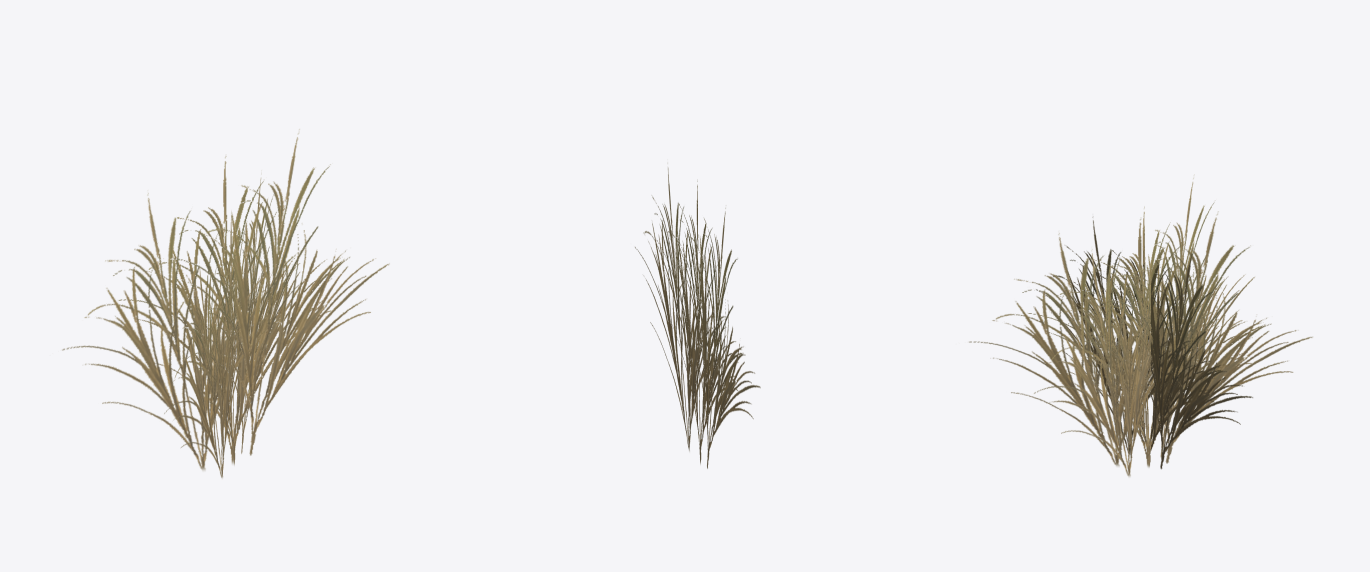
Rendered from heather_fescue_b.glb.
3 views of the same model, side by side, from view 1: azimuth 30°, elevation 25°; view 2: azimuth 150°, elevation 25°; view 3: azimuth 270°, elevation 25° (orthographic). The views are drawn at different scales.
Parts seen in each view (by area): view 1: Grass 6; view 2: Grass 6; view 3: Grass 6.
Boxes of the visible parts, x1,y1,x2,y2 form: Grass 6: (62, 129, 389, 478); Grass 6: (635, 168, 760, 468); Grass 6: (969, 178, 1312, 476).
Bounding box in the file's own units: 1.29 × 1.29 × 1.29.
Materials: 1 (1 with a texture image).
